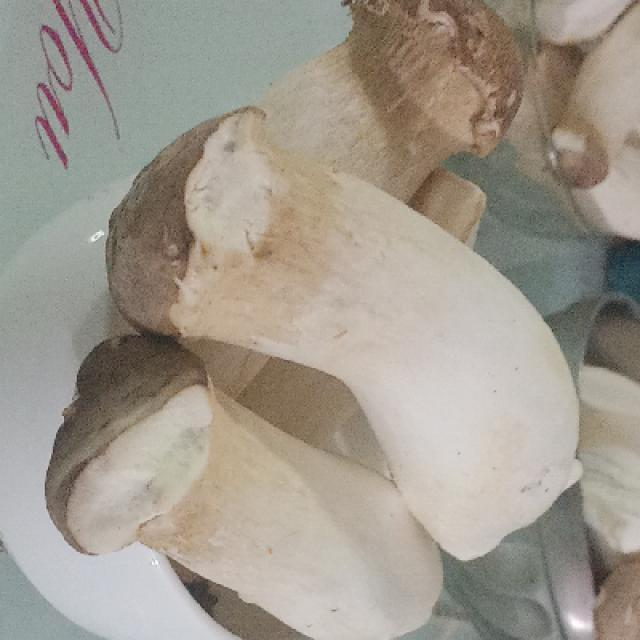Pleurotus eryngii: (105, 111, 581, 565), (48, 330, 441, 640), (246, 0, 527, 210)
